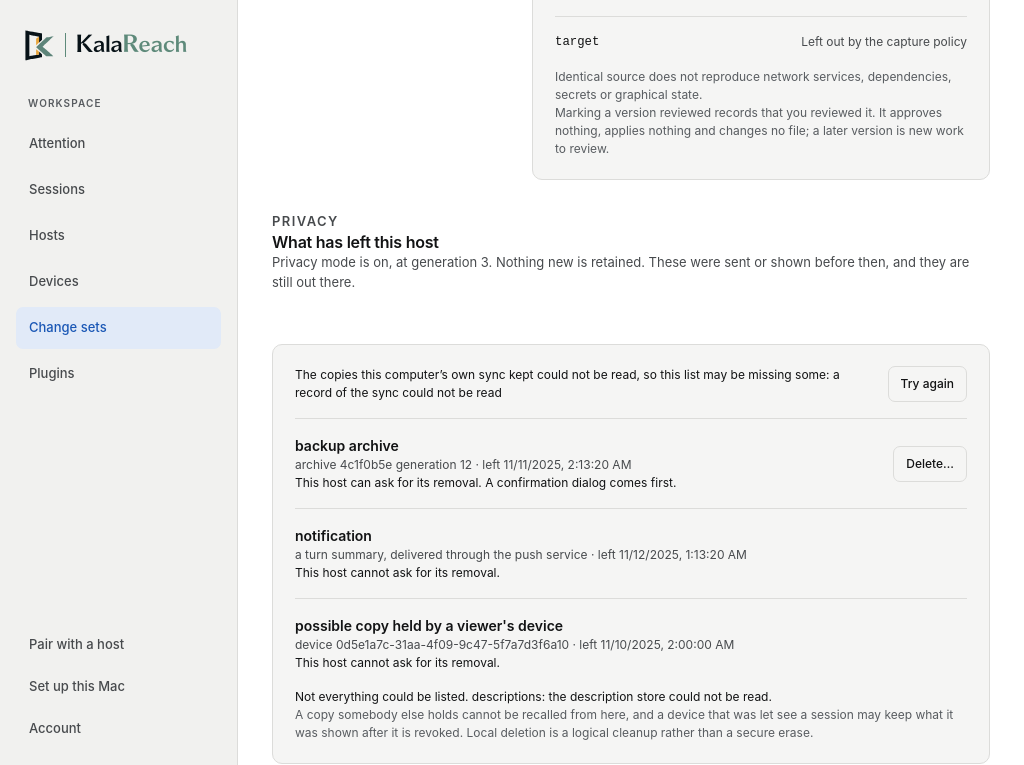
the copies this computer’s own sync kept › are not shown as an empty list when its records cannot be read
(page scrolled)
Expected: the number of elements with test id "left-copy" is 3, [295,418,967,508]; [295,508,967,598]; [295,598,967,688]
Expected: the message shows "could not be read, so this list may be missing some: a record of the sync could not be read", [295,366,878,402]
Click the button "Try again".
click(927, 384)  # box [888,366,967,402]
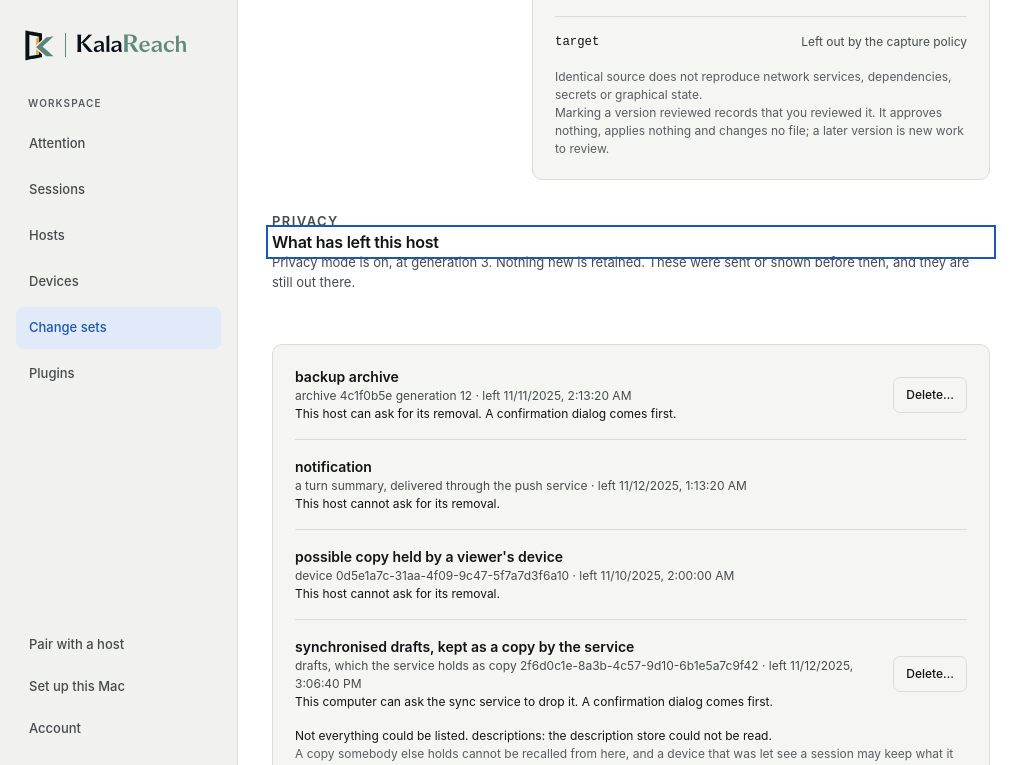
Expected: the number of elements with test id "left-copy" is 4, [295,366,967,440]; [295,440,967,530]; [295,530,967,620]; [295,620,967,728]
Expected: the element with test id "sync-copies-unread" is gone
